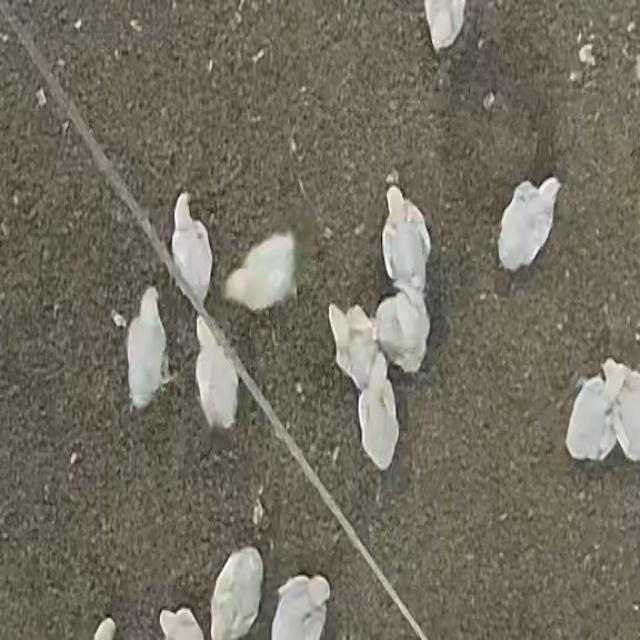chicken: (377, 180, 435, 294), (496, 172, 562, 272), (222, 230, 300, 314), (567, 360, 629, 462), (193, 315, 240, 434), (125, 287, 168, 412), (209, 545, 265, 640), (170, 190, 213, 307), (359, 356, 399, 472), (376, 287, 429, 373), (328, 303, 378, 391), (268, 572, 330, 640)
